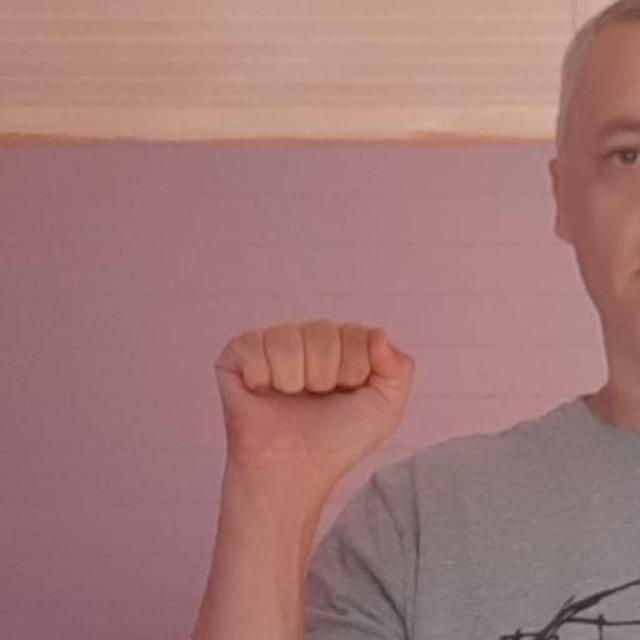hand: (212, 315, 418, 504)
